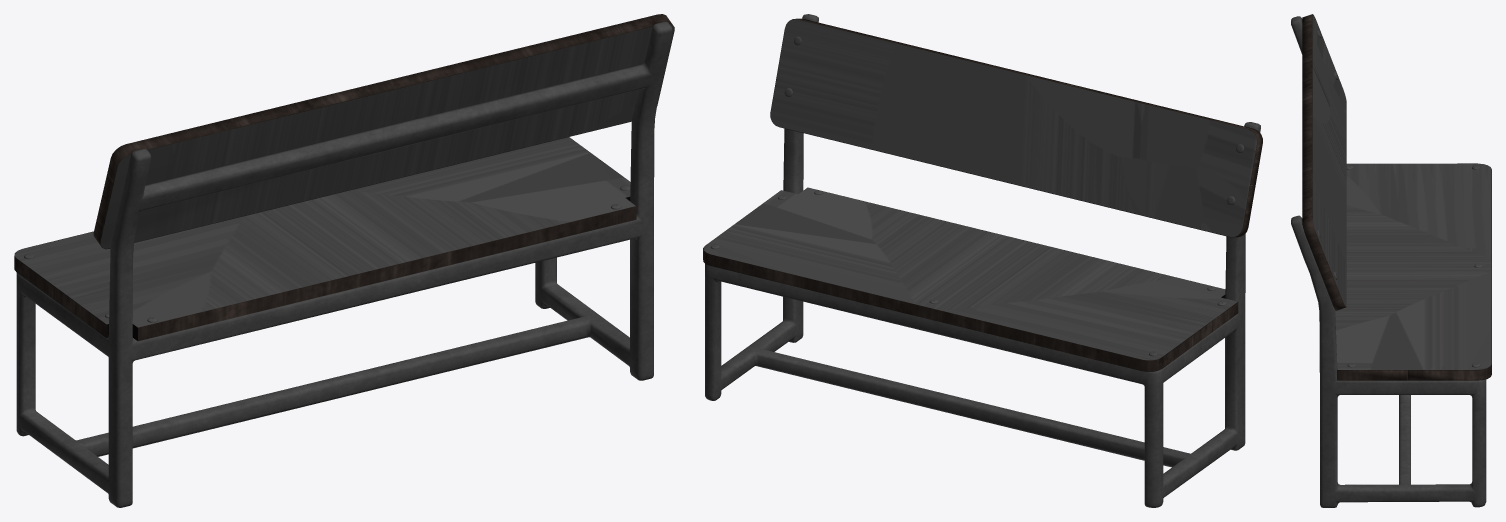
The model's file is School Desk.glb.
3 renders of one model, left to right at view 1: azimuth 30°, elevation 25°; view 2: azimuth 150°, elevation 25°; view 3: azimuth 270°, elevation 25°, orthographic. The views are drawn at different scales.
Visible parts, largest first — view 1: Chair; view 2: Chair; view 3: Chair.
Boxes of the visible parts, x1,y1,x2,y2 form: Chair: (14, 14, 674, 507); Chair: (703, 14, 1262, 507); Chair: (1291, 14, 1491, 507).
Size of the model in its own units: 4.35 by 2.75 by 1.73.
Materials: 3 (3 with a texture image).
